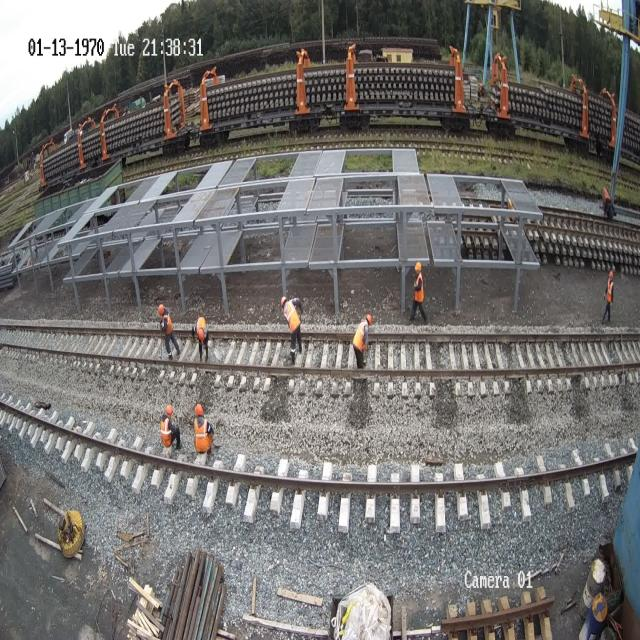Helmet: (195, 404, 203, 416), (165, 405, 173, 415), (293, 298, 301, 308), (366, 314, 372, 326), (280, 296, 286, 308), (158, 304, 164, 315), (415, 262, 421, 271), (609, 270, 613, 279)
Person: (280, 295, 303, 364), (157, 304, 180, 359), (352, 313, 372, 368), (409, 262, 427, 323), (160, 404, 180, 454), (194, 403, 214, 453), (192, 315, 209, 361), (601, 270, 614, 323)
